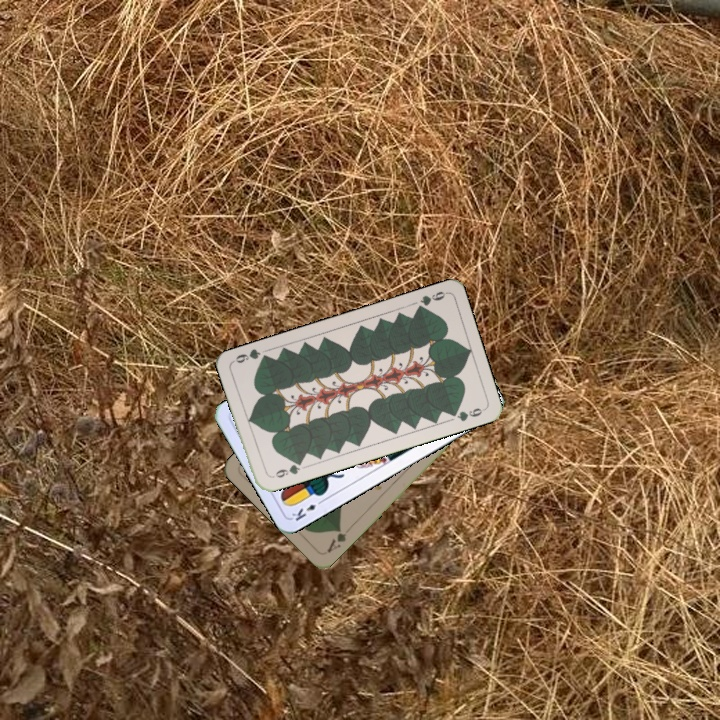EK: (287, 495, 326, 524)
G9: (412, 287, 449, 314), (267, 457, 305, 481)
GA: (323, 524, 349, 555)
